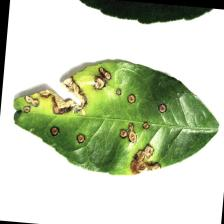canker: (20, 60, 167, 170)
